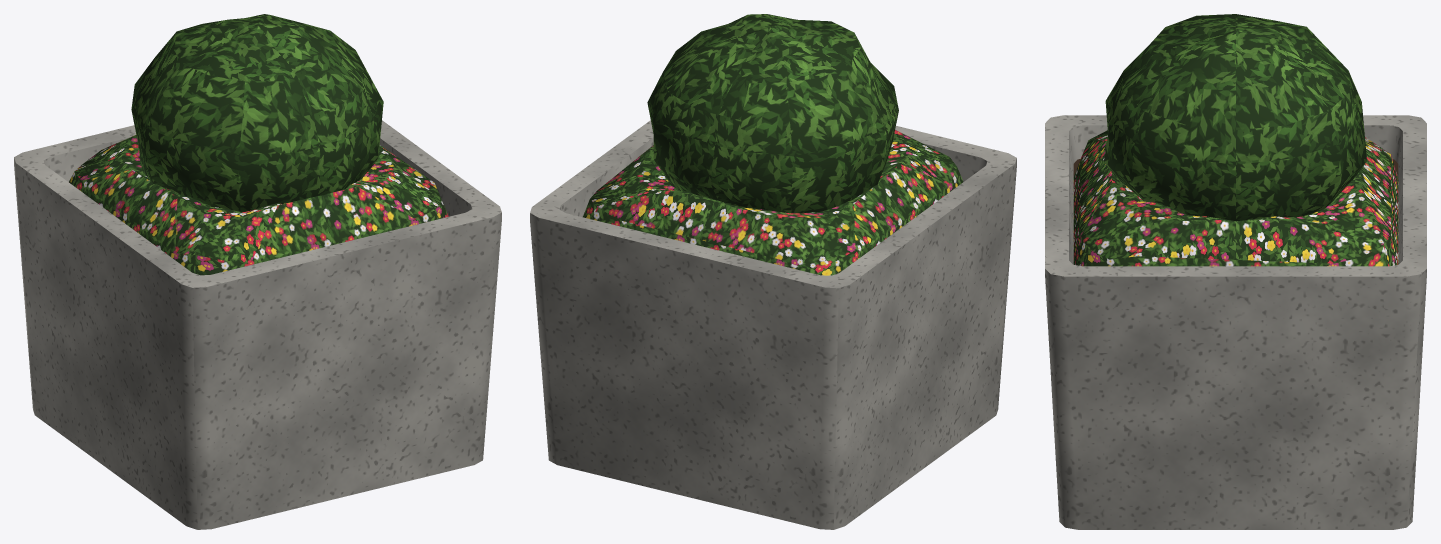
The model's file is planter.glb.
The picture shows the model from 3 angles, left to right: view 1: azimuth 30°, elevation 25°; view 2: azimuth 150°, elevation 25°; view 3: azimuth 270°, elevation 25°; orthographic projection. The views are drawn at different scales.
Parts seen in each view (by area): view 1: planter; view 2: planter; view 3: planter.
Boxes of the visible parts, x1,y1,x2,y2 form: planter: (14,14,501,529); planter: (530,14,1016,529); planter: (1045,14,1426,529).
Bounding box in the file's own units: 0.8 × 0.983 × 0.8.
Materials: 4 (3 with a texture image).
